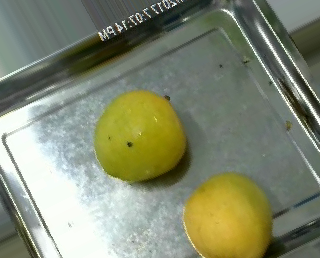Mango: (183, 172, 279, 255), (94, 94, 191, 176)
